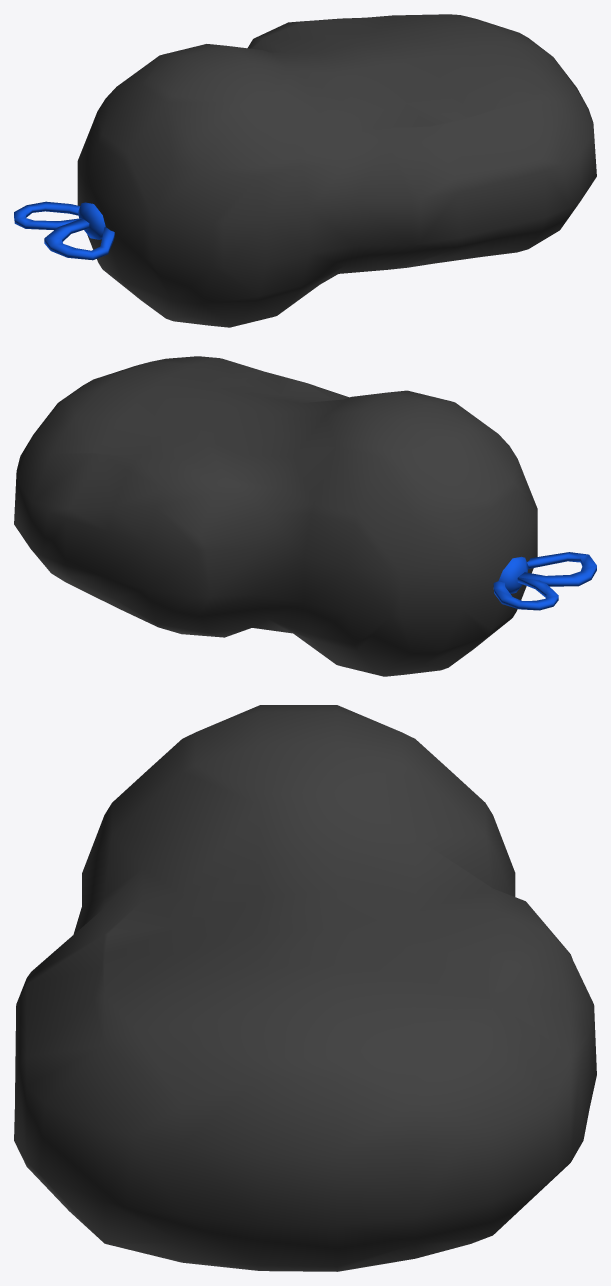
The model's file is Bagged Corpse 2.fbx.
3 renders of one model, top to bottom at view 1: azimuth 30°, elevation 25°; view 2: azimuth 150°, elevation 25°; view 3: azimuth 270°, elevation 25°, orthographic. The views are drawn at different scales.
Visible parts, largest first — view 1: Mball, Tie; view 2: Mball, Tie; view 3: Mball.
Boxes of the visible parts, box(x1,y1,x2,y2) form: Mball: box(77, 14, 596, 327); Tie: box(14, 201, 114, 260); Mball: box(14, 356, 537, 676); Tie: box(493, 552, 596, 610); Mball: box(14, 705, 596, 1271).
Size of the model in its own units: 117 by 53.05 by 71.37.
